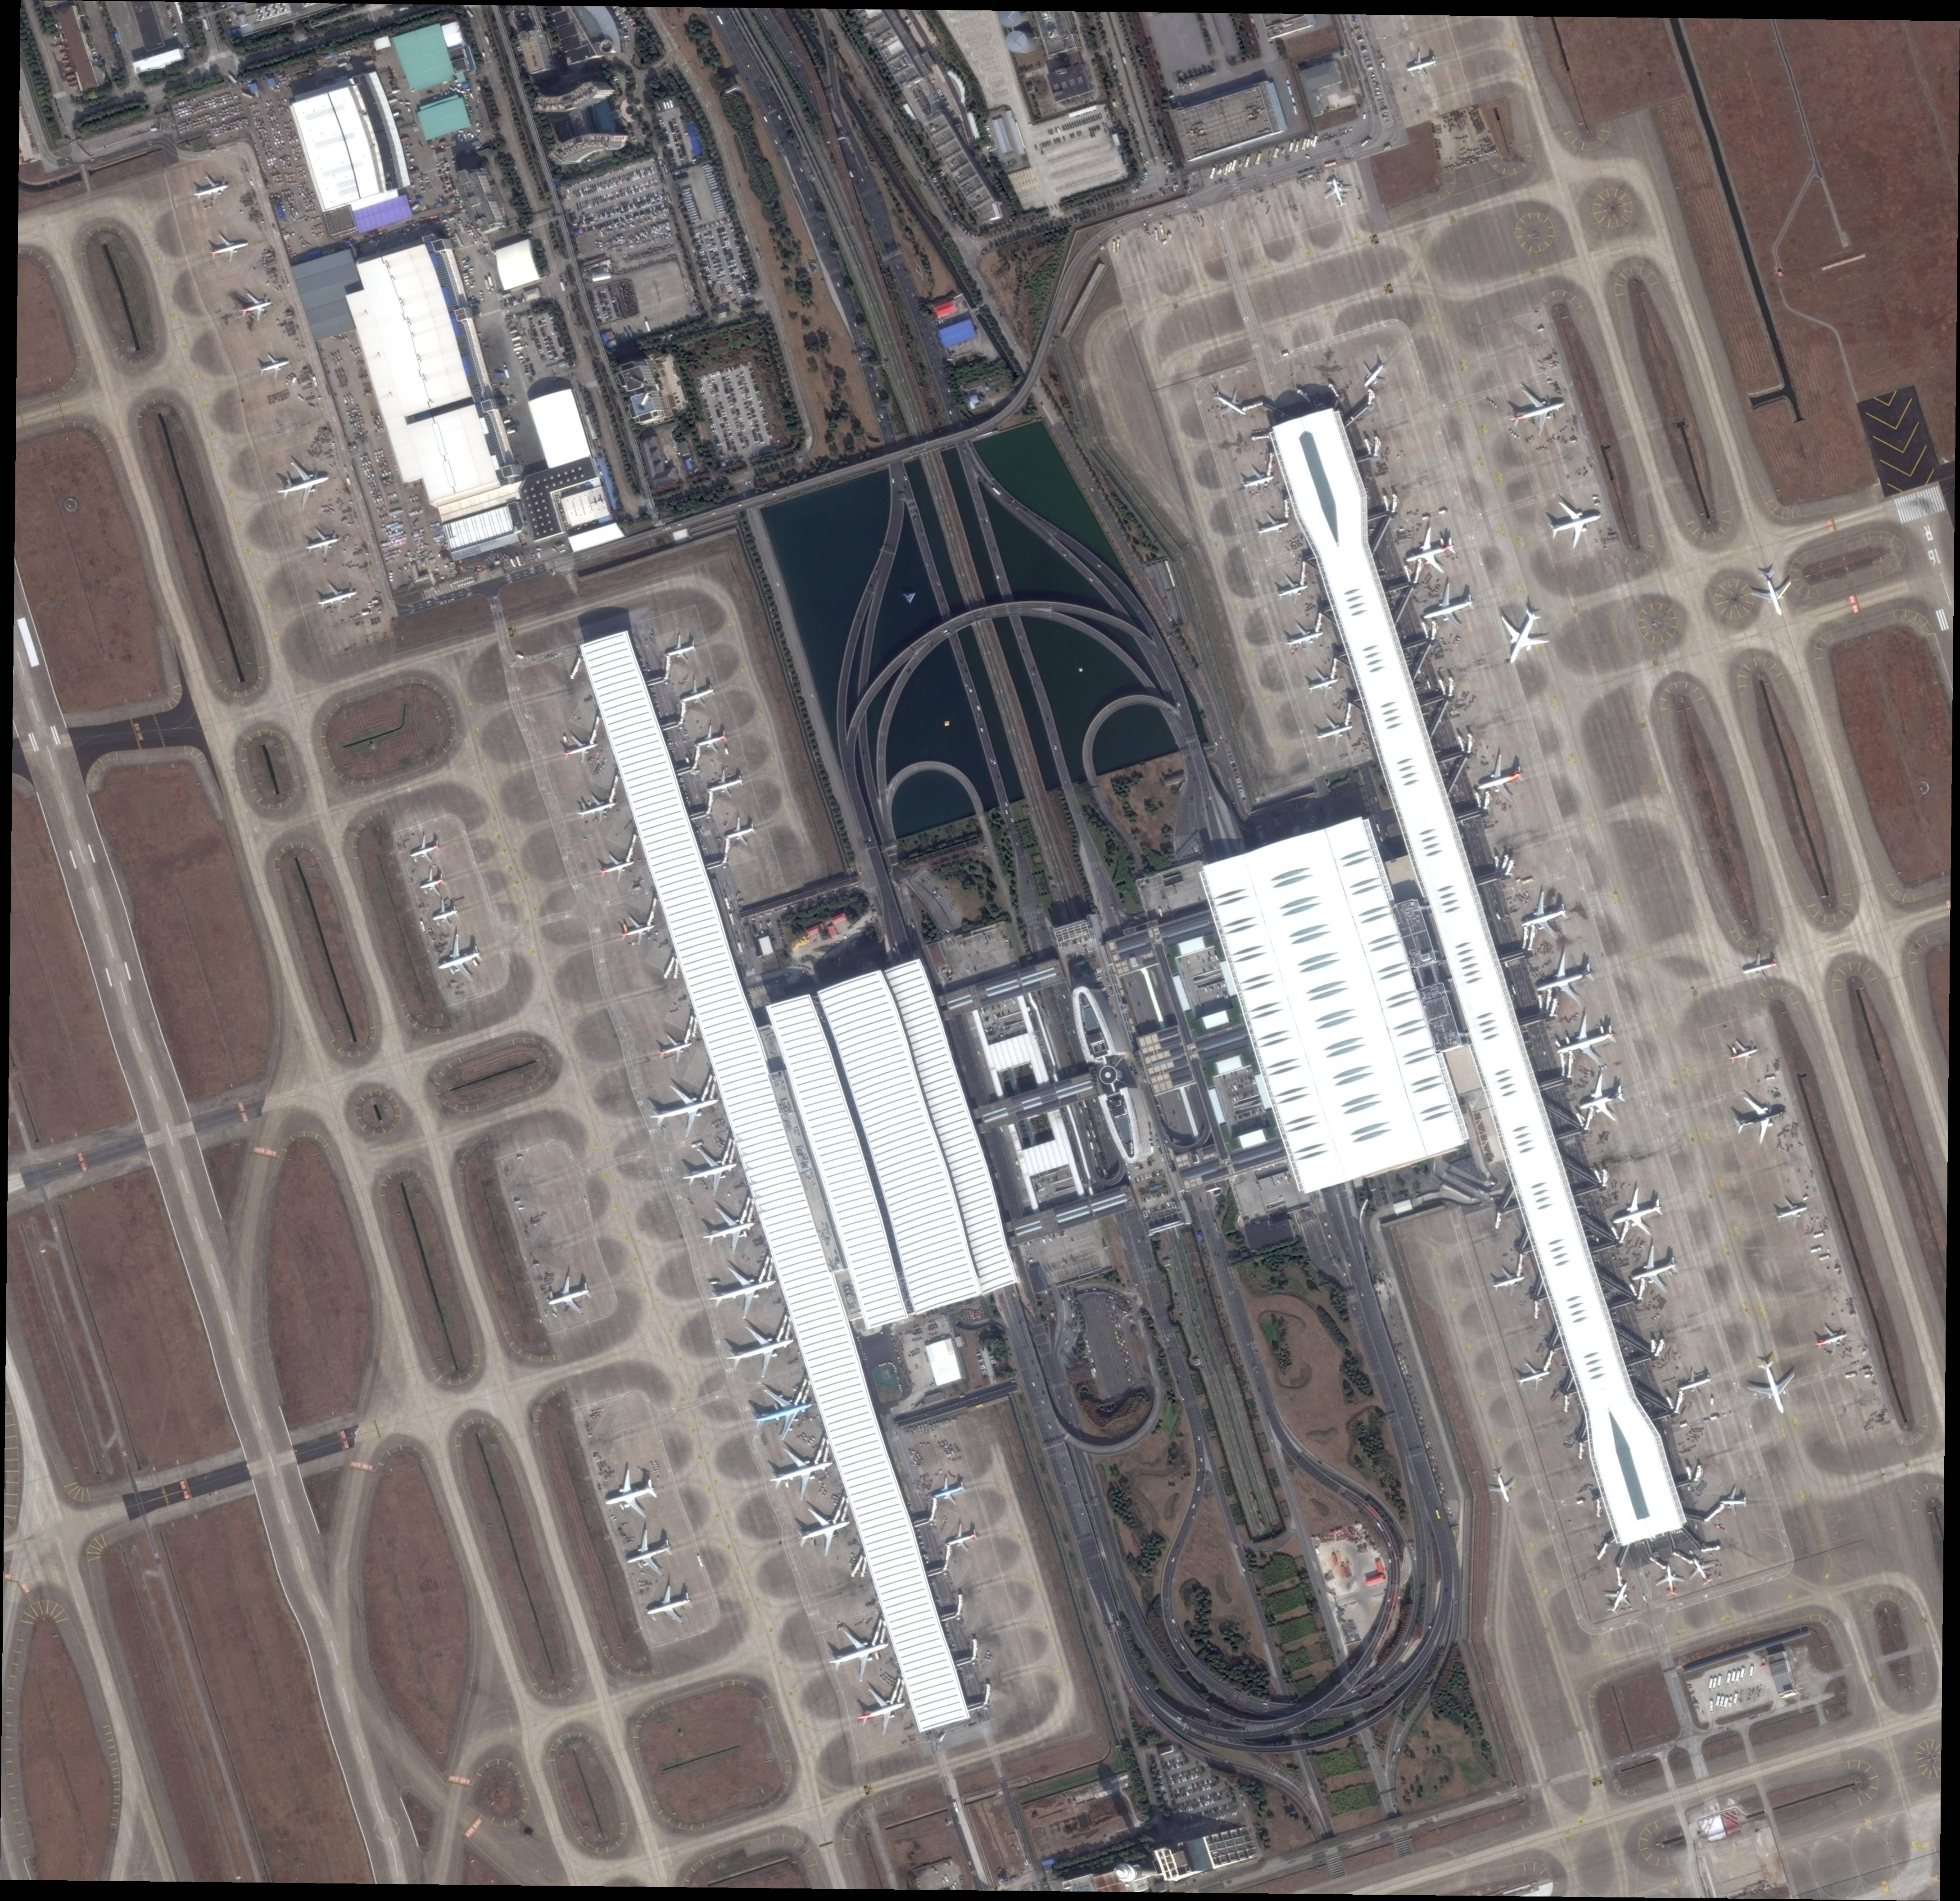plane: (646, 1073, 728, 1145), (1486, 602, 1557, 670), (1554, 1007, 1624, 1075), (1529, 943, 1601, 1010), (747, 1381, 821, 1446), (709, 1260, 784, 1323), (824, 1623, 896, 1687), (765, 1442, 838, 1505), (726, 1320, 800, 1383), (1496, 380, 1570, 441), (598, 1463, 667, 1528), (1538, 494, 1608, 555), (269, 453, 336, 516), (677, 1141, 745, 1201), (793, 1500, 856, 1563), (1571, 1070, 1633, 1134), (1398, 522, 1463, 581), (1741, 1355, 1804, 1414), (698, 1203, 763, 1260), (1626, 1239, 1685, 1301), (1608, 1182, 1669, 1241), (1515, 887, 1577, 947), (852, 1684, 912, 1743), (1472, 749, 1528, 810), (1417, 581, 1479, 635), (623, 1526, 679, 1584), (432, 931, 488, 986), (1727, 1096, 1783, 1148), (1745, 565, 1797, 620), (542, 1269, 597, 1320), (644, 1582, 700, 1631), (1204, 378, 1253, 425), (311, 578, 362, 621), (205, 228, 254, 271), (572, 786, 623, 828), (189, 170, 234, 214), (593, 847, 640, 889), (558, 730, 605, 772), (303, 523, 346, 567), (1769, 1189, 1811, 1234), (1596, 1581, 1640, 1623), (618, 910, 663, 950), (653, 1026, 696, 1066), (402, 830, 446, 870), (1482, 1465, 1522, 1507), (1353, 352, 1395, 392), (1809, 1320, 1850, 1362), (236, 285, 275, 329), (1722, 1035, 1762, 1075), (691, 719, 731, 758), (941, 1519, 982, 1558), (1514, 1360, 1554, 1399), (1683, 1549, 1724, 1588), (677, 677, 719, 714), (1304, 665, 1346, 702), (926, 1474, 969, 1509), (1283, 621, 1326, 656), (1312, 716, 1358, 749), (1255, 508, 1293, 546), (660, 630, 700, 667), (705, 767, 745, 803), (1402, 46, 1442, 82), (1487, 1266, 1528, 1302), (1274, 571, 1314, 607), (1739, 949, 1780, 986), (1652, 1560, 1689, 1600), (1675, 1365, 1717, 1400), (721, 814, 759, 849), (255, 350, 294, 385), (1319, 175, 1356, 210), (429, 898, 464, 933), (1241, 464, 1276, 499), (418, 866, 453, 900), (1718, 1486, 1750, 1519)
